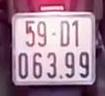0: (17, 50, 31, 84)
1: (71, 18, 81, 48)
3: (46, 51, 59, 80)
5: (25, 18, 36, 49)
6: (30, 49, 45, 81)
9: (78, 50, 91, 81), (63, 50, 76, 79), (37, 21, 48, 47)
D: (58, 18, 72, 50)
